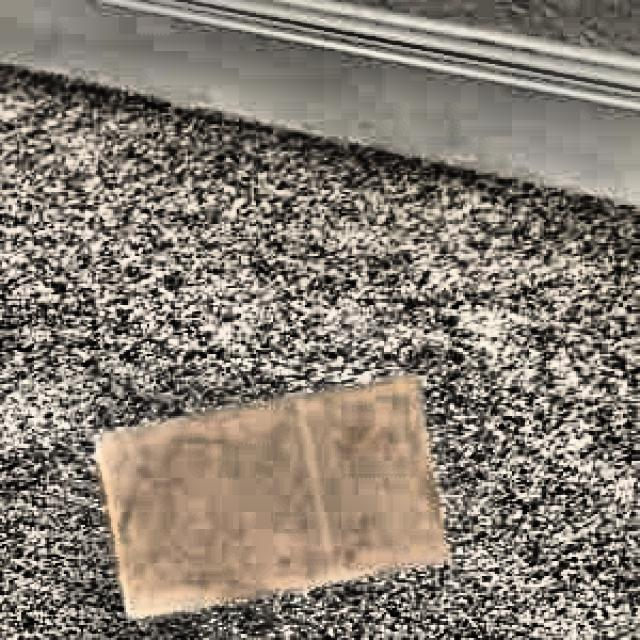Paper-bag: (90, 366, 461, 628)
